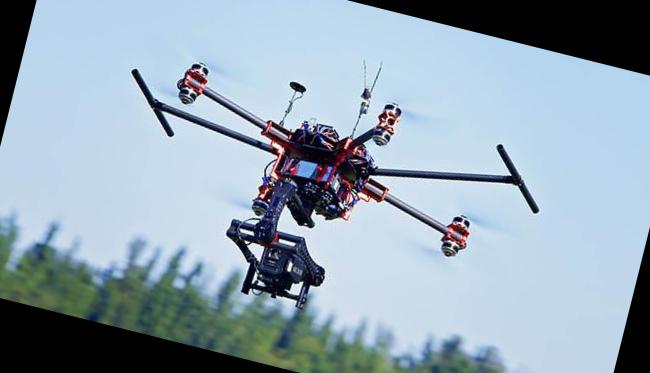drone: (99, 20, 556, 322)
